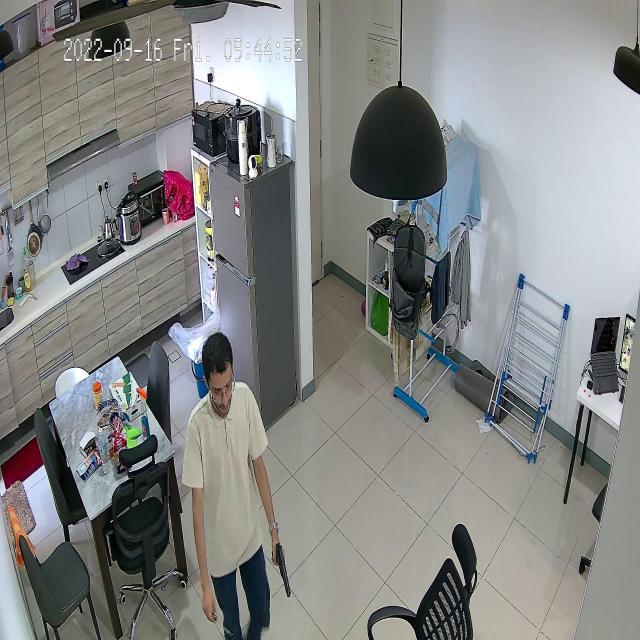Gun: (257, 538, 306, 597)
Knife: (194, 602, 244, 628)
